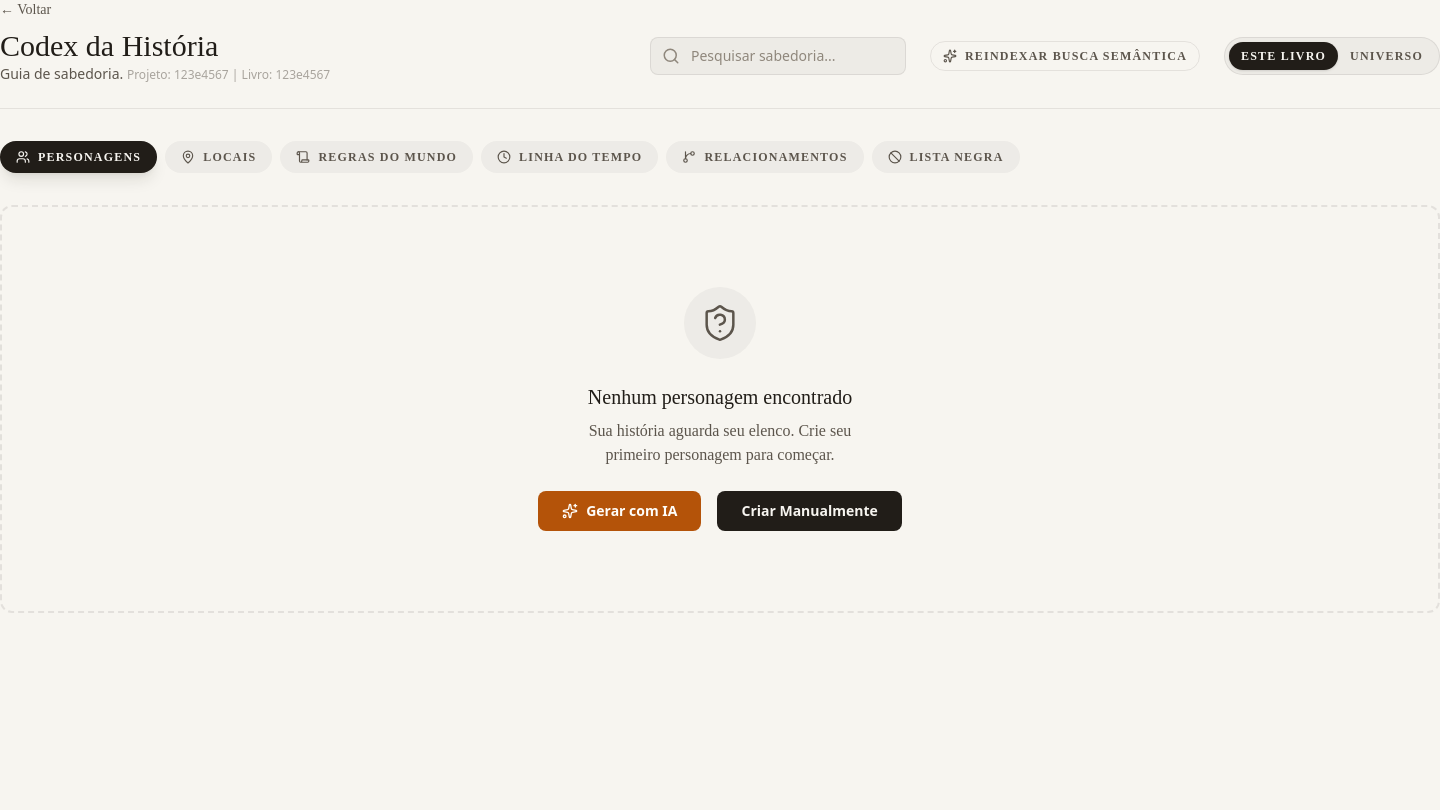
Test: CodexDashboard Modal Integration › should open SlideOver with WorldRuleForm when 'Criar Regra' is clicked
# Switch to rules tab
Click the button "Regras do Mundo": (377, 157) [280,141,473,173]
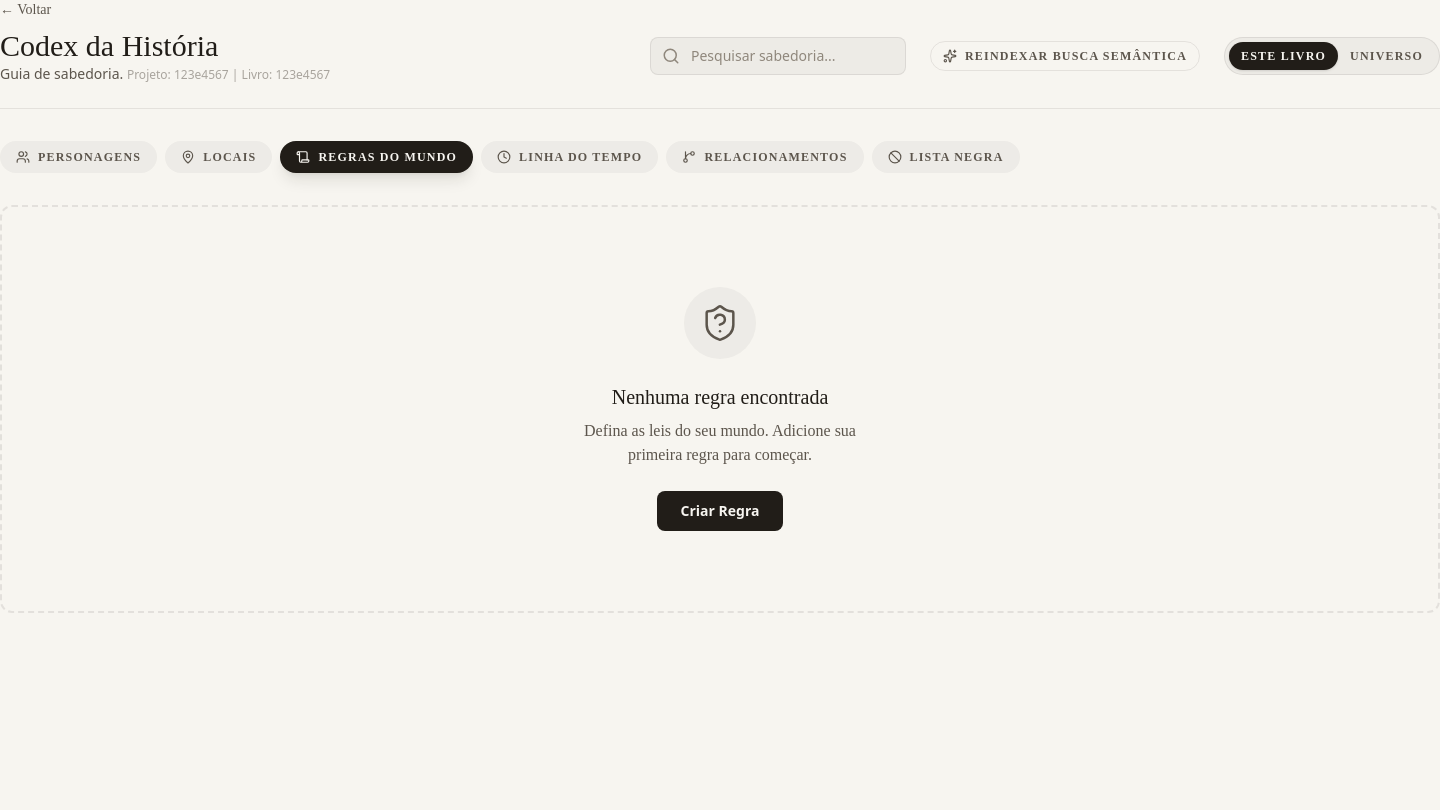
Click the button "Criar Regra": (720, 511) [656,491,783,531]
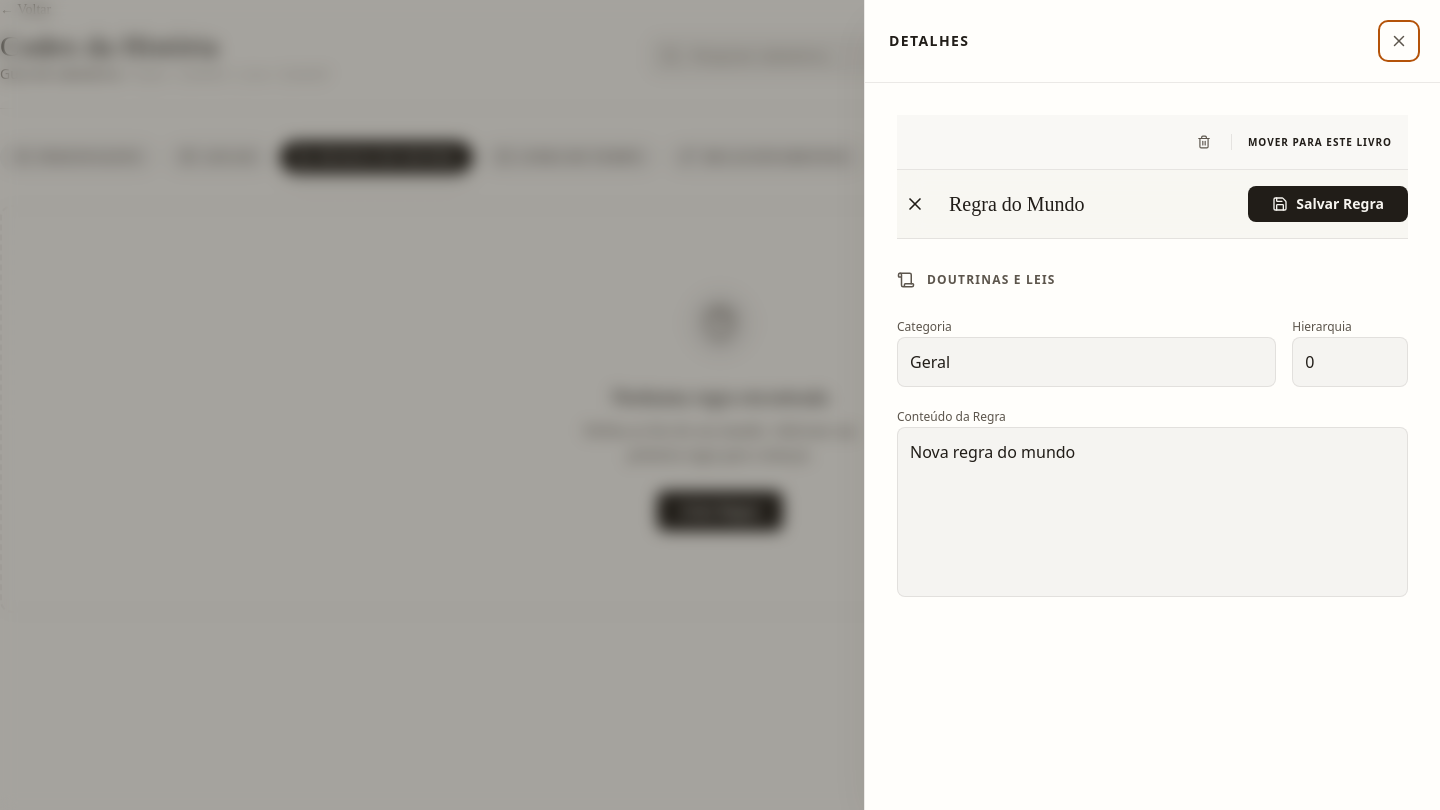
Check: the heading "Regra do Mundo" is shown, box [949,190,1084,218]
Check: the text box labelled "Conteúdo da Regra" is shown, box [897,427,1408,597]
